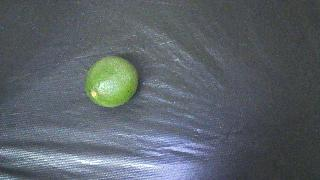LOCAL: (85, 56, 138, 107)
